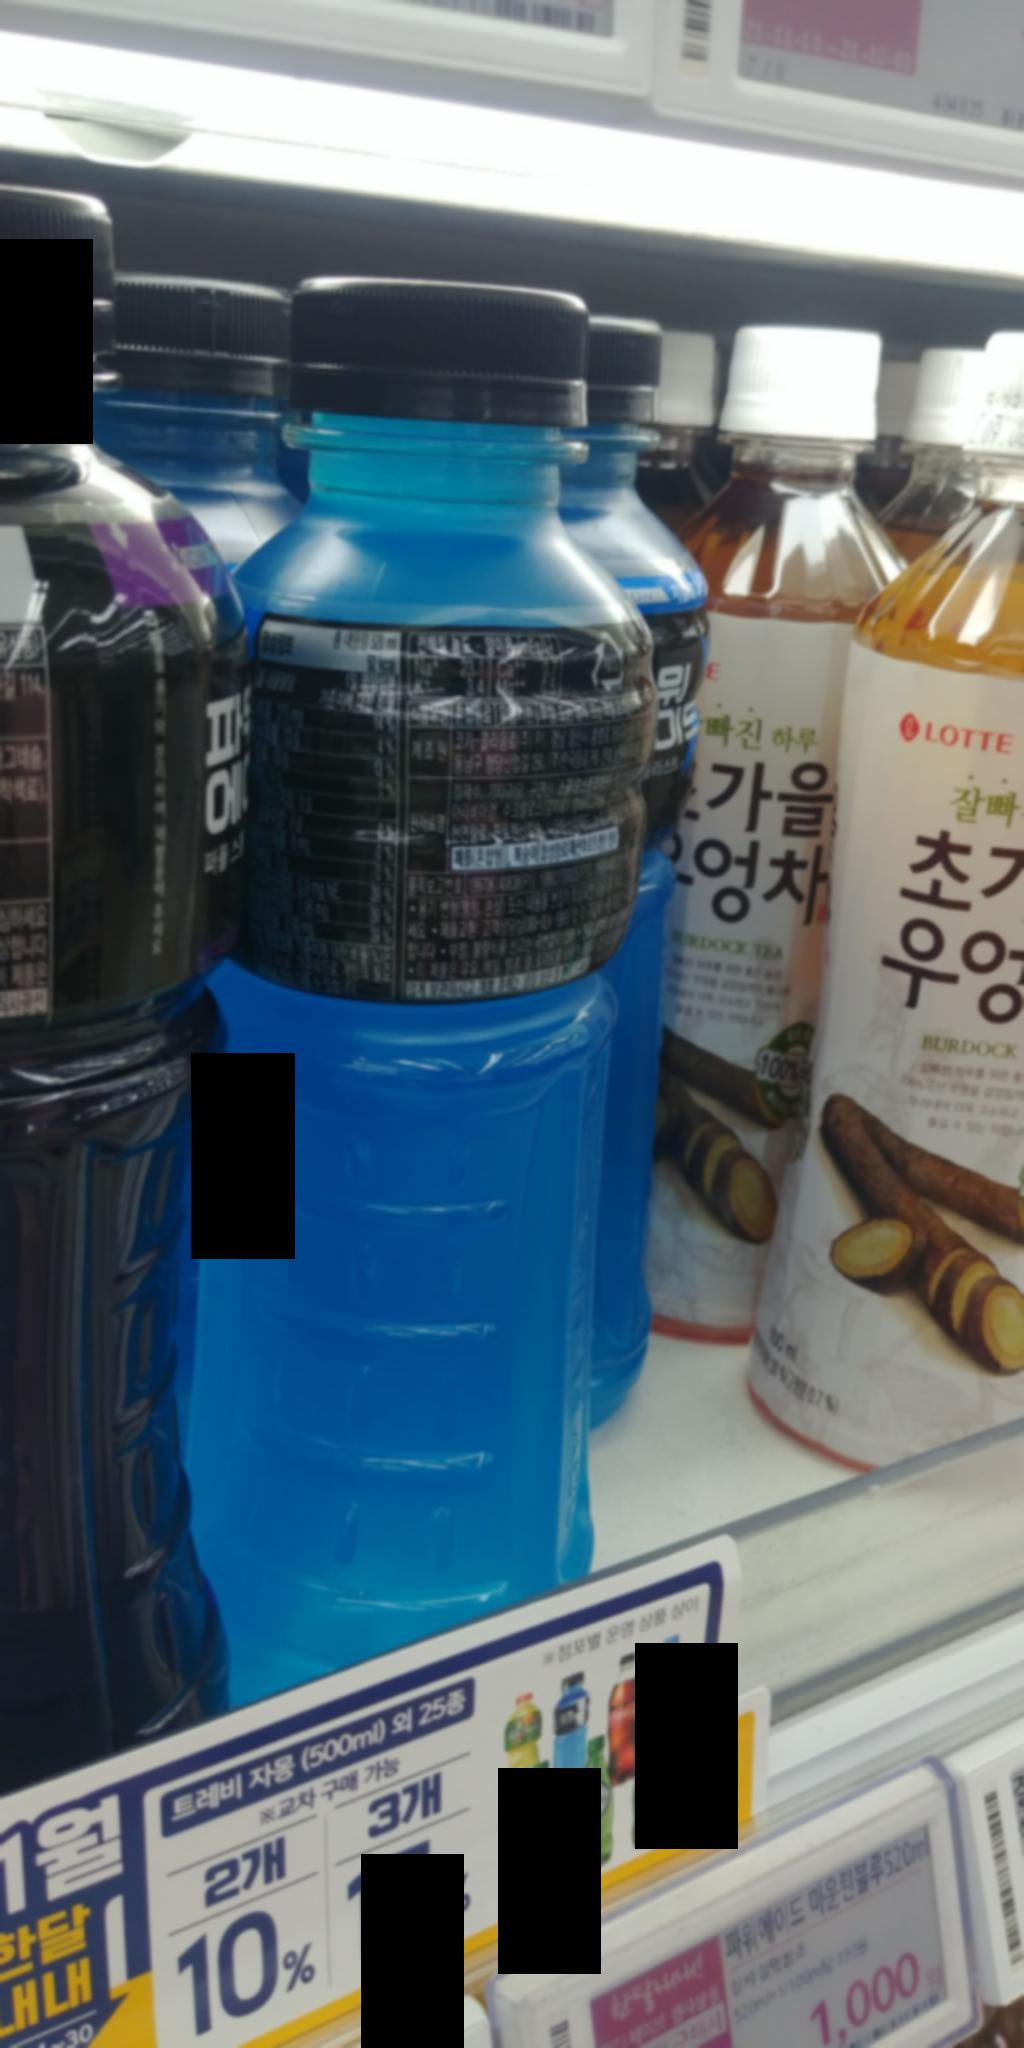powerade_mountainblast: (205, 263, 627, 1707)
